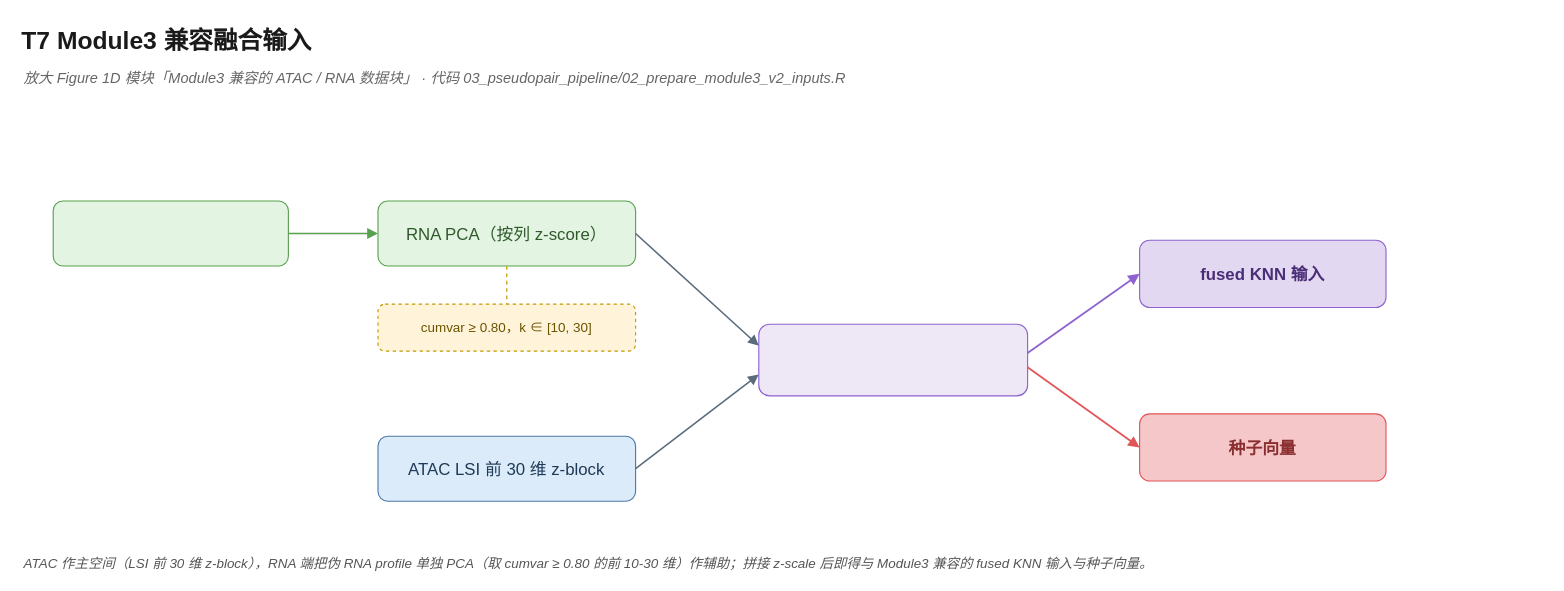
Image size: 1564x591. Some labels were removed from this diagram. The centre of each missing label's shape, as x and y in pixels:
伪 RNA profile: the point at 170,233
拼接并按列 z-scale: the point at 893,359
